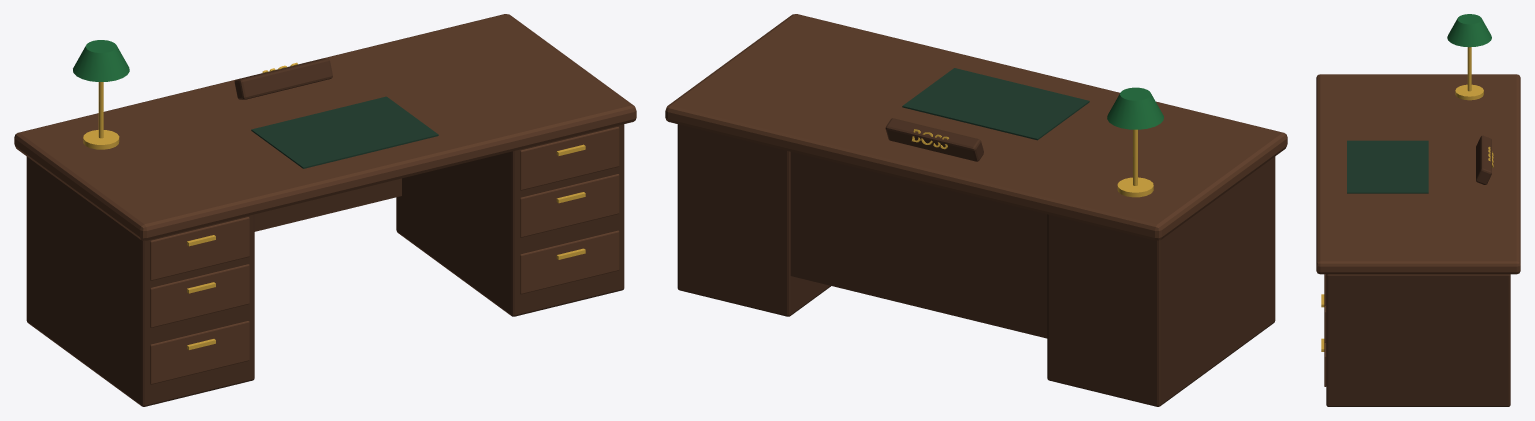
Rendered from boss_desk.glb.
3 renders of one model, left to right at view 1: azimuth 30°, elevation 25°; view 2: azimuth 150°, elevation 25°; view 3: azimuth 270°, elevation 25°, orthographic. The views are drawn at different scales.
Parts seen in each view (by area): view 1: BossDesk; view 2: BossDesk; view 3: BossDesk.
Part boxes in pixels (x1=…): BossDesk: x1=14, y1=14, x2=636, y2=406; BossDesk: x1=665, y1=14, x2=1287, y2=406; BossDesk: x1=1316, y1=14, x2=1520, y2=406.
Bounding box in the file's own units: 2.2 × 1.2 × 1.
